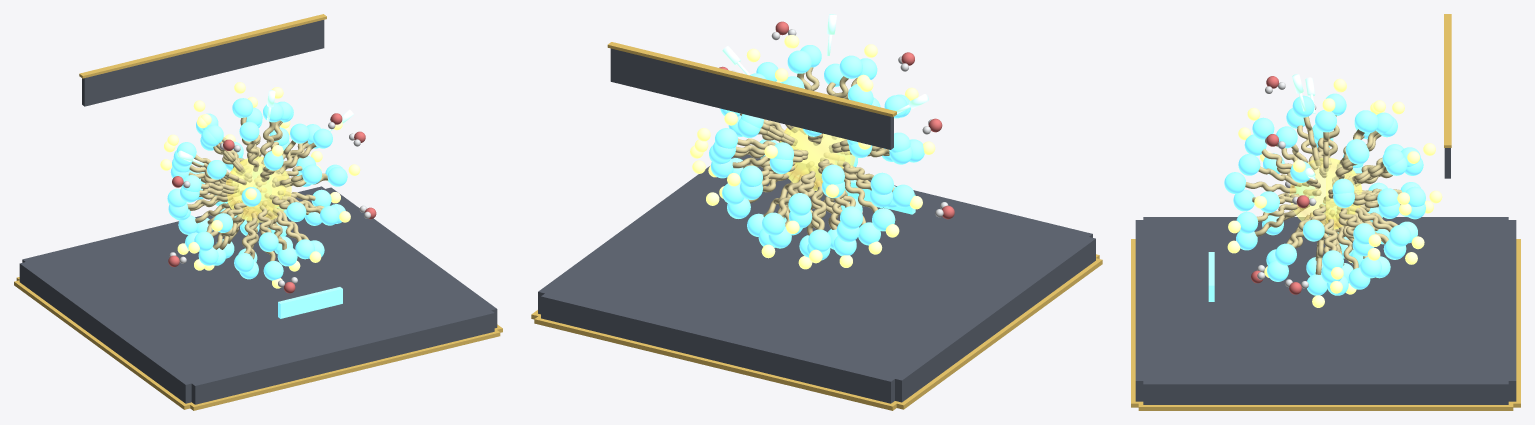
Rendered from soap-micelle.glb.
The picture shows the model from 3 angles, left to right: view 1: azimuth 30°, elevation 25°; view 2: azimuth 150°, elevation 25°; view 3: azimuth 270°, elevation 25°; orthographic projection. The views are drawn at different scales.
Parts seen in each view (by area): view 1: soap-micelle-plinth, soap-micelle-sec-plaque-bg, soap-micelle-sec-plinth, soap-micelle-oil-core, soap-micelle-plinth-rim, soap-micelle-sec-oil, soap-micelle-sec-plaque-trim, soap-micelle-sec-plinth-rim, soap-micelle-sec-dual-badge; view 2: soap-micelle-sec-plinth, soap-micelle-plinth, soap-micelle-sec-plaque-bg, soap-micelle-plinth-rim, soap-micelle-sec-plaque-trim, soap-micelle-sec-plinth-rim, soap-micelle-oil-core, soap-micelle-sec-oil; view 3: soap-micelle-plinth, soap-micelle-sec-plinth, soap-micelle-sec-plinth-rim, soap-micelle-oil-core, soap-micelle-plinth-rim, soap-micelle-sec-plaque-trim, soap-micelle-sec-oil, soap-micelle-head-29, soap-micelle-head-11, soap-micelle-head-21, soap-micelle-head-19, soap-micelle-sec-head-16 (+8 smaller).
Boxes of the visible parts, x1,y1,x2,y2 form: soap-micelle-plinth: [22, 186, 494, 404]; soap-micelle-sec-plaque-bg: [82, 20, 324, 106]; soap-micelle-sec-plinth: [19, 187, 497, 403]; soap-micelle-oil-core: [226, 156, 291, 222]; soap-micelle-plinth-rim: [16, 277, 500, 410]; soap-micelle-sec-oil: [226, 156, 286, 219]; soap-micelle-sec-plaque-trim: [79, 14, 326, 78]; soap-micelle-sec-plinth-rim: [14, 280, 502, 409]; soap-micelle-sec-dual-badge: [278, 287, 342, 318]; soap-micelle-sec-plinth: [538, 154, 1095, 402]; soap-micelle-plinth: [541, 154, 1092, 403]; soap-micelle-sec-plaque-bg: [610, 48, 893, 149]; soap-micelle-plinth-rim: [534, 254, 1099, 410]; soap-micelle-sec-plaque-trim: [607, 42, 896, 117]; soap-micelle-sec-plinth-rim: [531, 258, 1102, 409]; soap-micelle-oil-core: [780, 127, 855, 190]; soap-micelle-sec-oil: [780, 127, 850, 190]; soap-micelle-plinth: [1135, 220, 1516, 401]; soap-micelle-sec-plinth: [1143, 217, 1508, 404]; soap-micelle-sec-plinth-rim: [1138, 402, 1513, 410]; soap-micelle-oil-core: [1289, 158, 1362, 229]; soap-micelle-plinth-rim: [1131, 239, 1520, 407]; soap-micelle-sec-plaque-trim: [1444, 14, 1451, 147]; soap-micelle-sec-oil: [1326, 158, 1361, 229]; soap-micelle-head-29: [1275, 243, 1296, 265]; soap-micelle-head-11: [1238, 154, 1260, 175]; soap-micelle-head-21: [1303, 219, 1324, 241]; soap-micelle-head-19: [1224, 172, 1245, 193]; soap-micelle-sec-head-16: [1389, 225, 1411, 246].
Size of the model in its own units: 0.266 by 0.1813 by 0.256.
